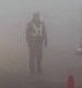person: (26, 11, 48, 75)
